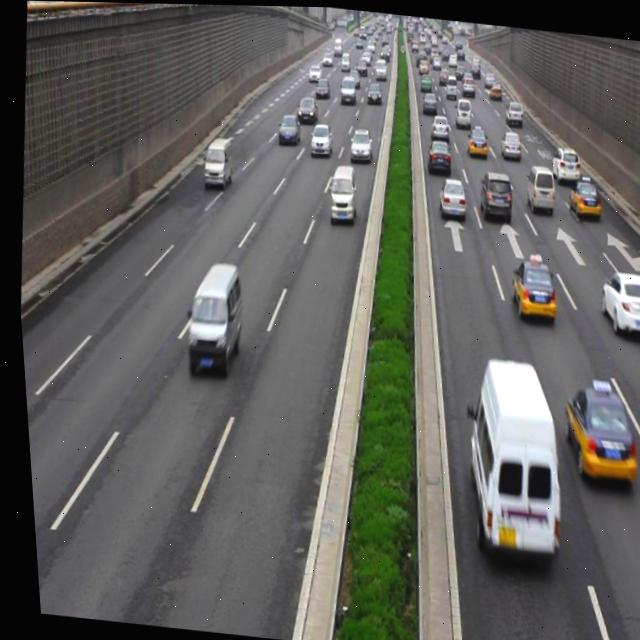car: (551, 371, 635, 481), (502, 249, 555, 319), (590, 266, 640, 338), (472, 168, 511, 220), (433, 173, 466, 220), (543, 140, 579, 183), (563, 176, 598, 218), (304, 119, 331, 158), (423, 137, 450, 175), (345, 124, 371, 162), (273, 112, 300, 145), (425, 111, 449, 144), (462, 125, 486, 153), (496, 128, 519, 156)
truck: (446, 353, 565, 565), (176, 259, 243, 371), (323, 162, 356, 221), (519, 161, 553, 213), (197, 136, 231, 186)
